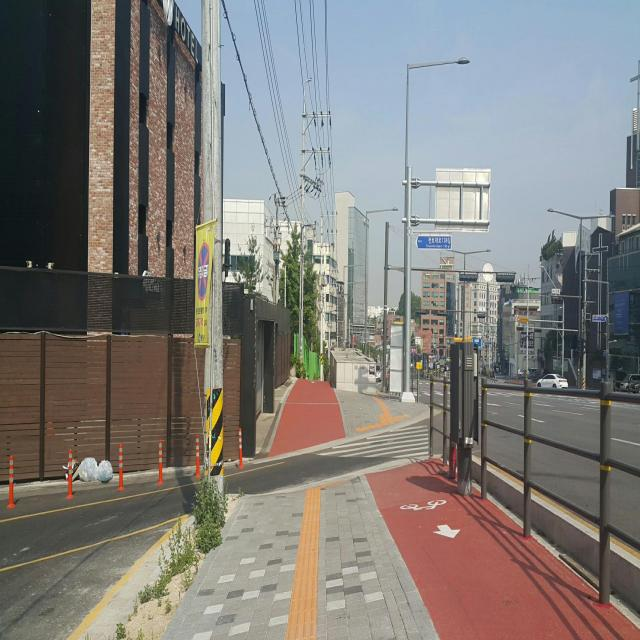횡단보도: (315, 424, 429, 459)
